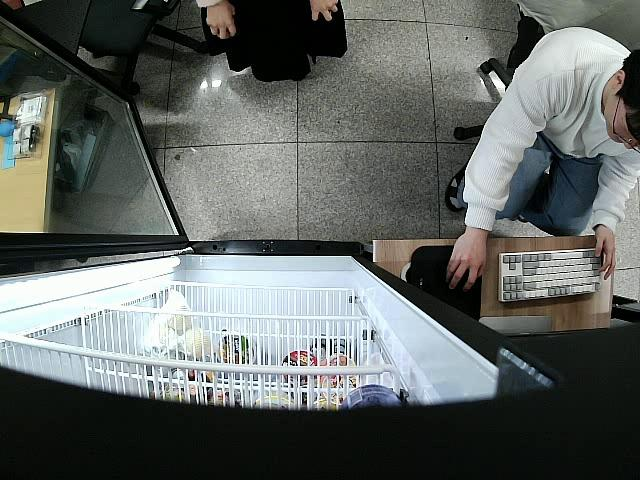00_hand: (205, 6, 236, 38), (309, 0, 341, 22)
